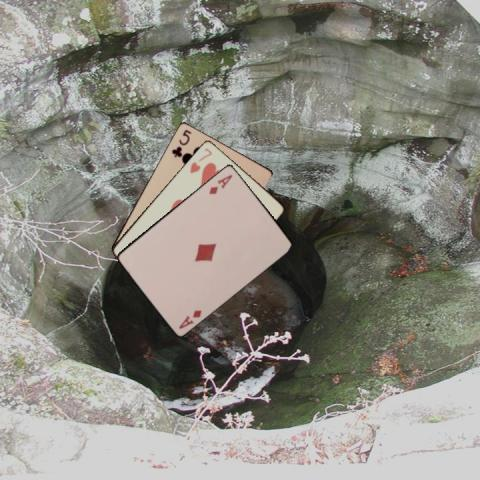5c: (168, 126, 192, 158)
7h: (187, 144, 213, 174)
Ad: (206, 171, 234, 196), (176, 307, 204, 330)
